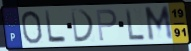D: (70, 9, 97, 45)
L: (43, 10, 68, 45), (124, 7, 147, 42)
M: (143, 4, 175, 43)
O: (20, 9, 44, 45)
P: (95, 8, 119, 43)
